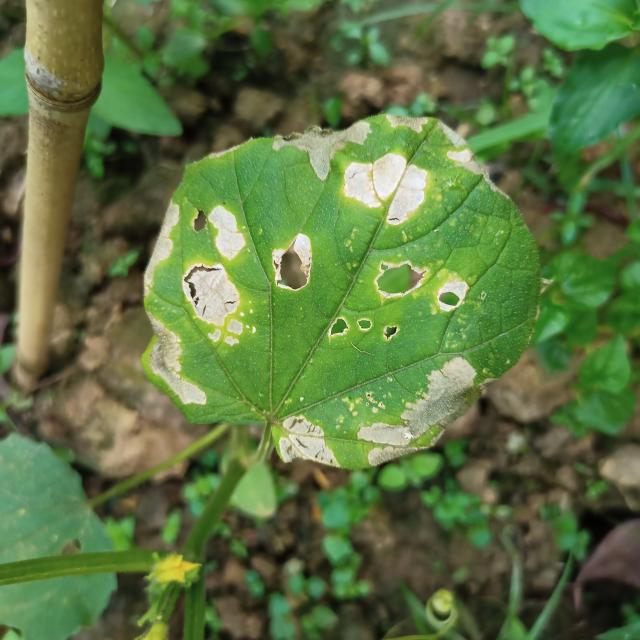disease_cucumber: (260, 228, 495, 466), (137, 199, 324, 414), (253, 107, 527, 229)
